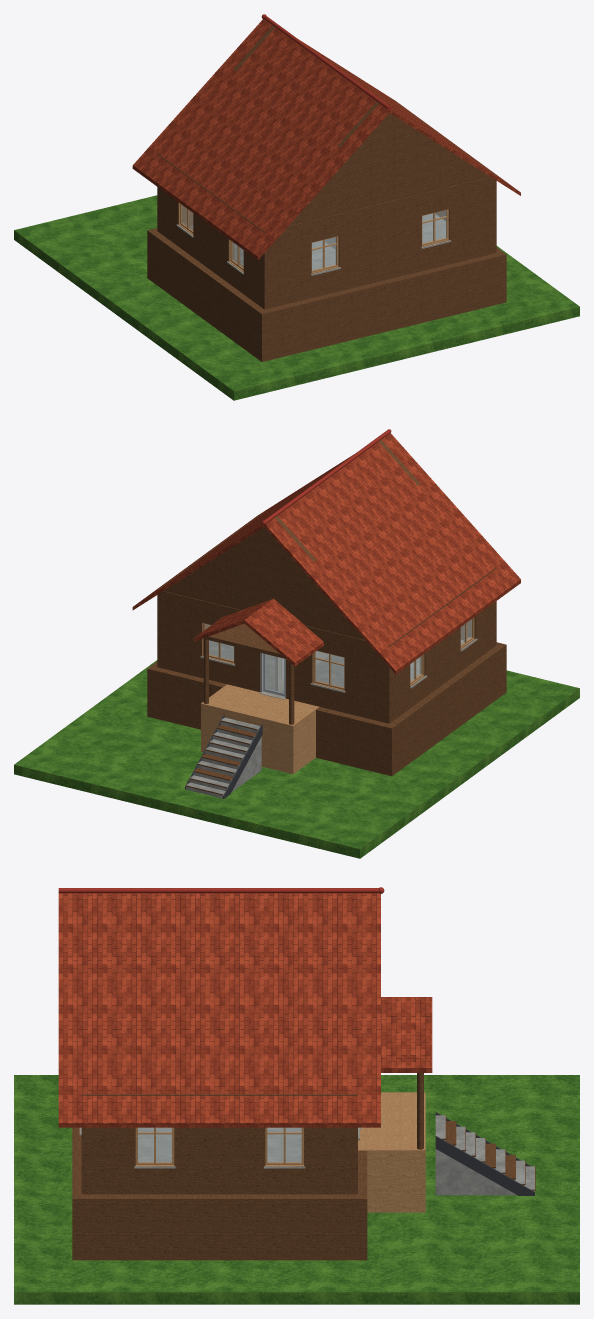
The model's file is b_thai_stilt_house.gltf.
3 renders of one model, top to bottom at view 1: azimuth 30°, elevation 25°; view 2: azimuth 150°, elevation 25°; view 3: azimuth 270°, elevation 25°, orthographic. The views are drawn at different scales.
Visible parts, largest first — view 1: S_thai_stilt_house; view 2: S_thai_stilt_house, D_thai_stilt_house_F1_S2_Door0; view 3: S_thai_stilt_house.
Part boxes in pixels (box(x1,y1,x2,y2)): S_thai_stilt_house: box(14, 14, 579, 400); S_thai_stilt_house: box(14, 429, 579, 858); D_thai_stilt_house_F1_S2_Door0: box(263, 653, 284, 696); S_thai_stilt_house: box(14, 887, 579, 1304).
Bounding box in the file's own units: 15 × 9.93 × 16.5.
Materials: 16 (9 with a texture image).
